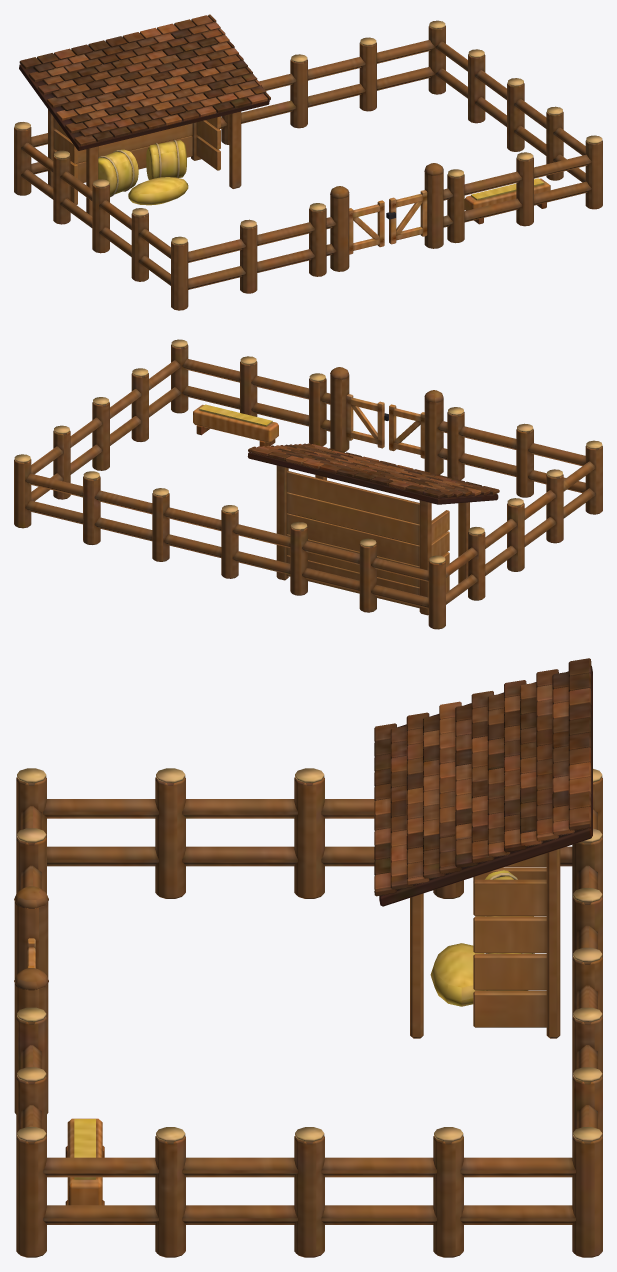
The model's file is mule_paddock.glb.
The picture shows the model from 3 angles, top to bottom: view 1: azimuth 30°, elevation 25°; view 2: azimuth 150°, elevation 25°; view 3: azimuth 270°, elevation 25°; orthographic projection. The views are drawn at different scales.
Visible parts, largest first — view 1: mule_paddock, gate1, gate0; view 2: mule_paddock, gate1, gate0; view 3: mule_paddock.
Boxes of the visible parts, x1,y1,x2,y2 form: mule_paddock: [14, 14, 602, 310]; gate1: [386, 190, 427, 244]; gate0: [349, 200, 384, 254]; mule_paddock: [14, 339, 602, 629]; gate1: [346, 394, 388, 448]; gate0: [389, 404, 424, 458]; mule_paddock: [14, 658, 602, 1257].
Size of the model in its own units: 3 by 0.9342 by 2.01.
1 material, 1 textured.
